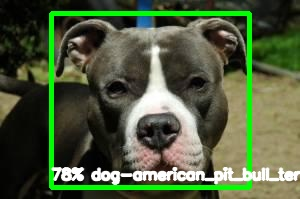dog-american_pit_bull_terrier: (55, 17, 248, 189)
